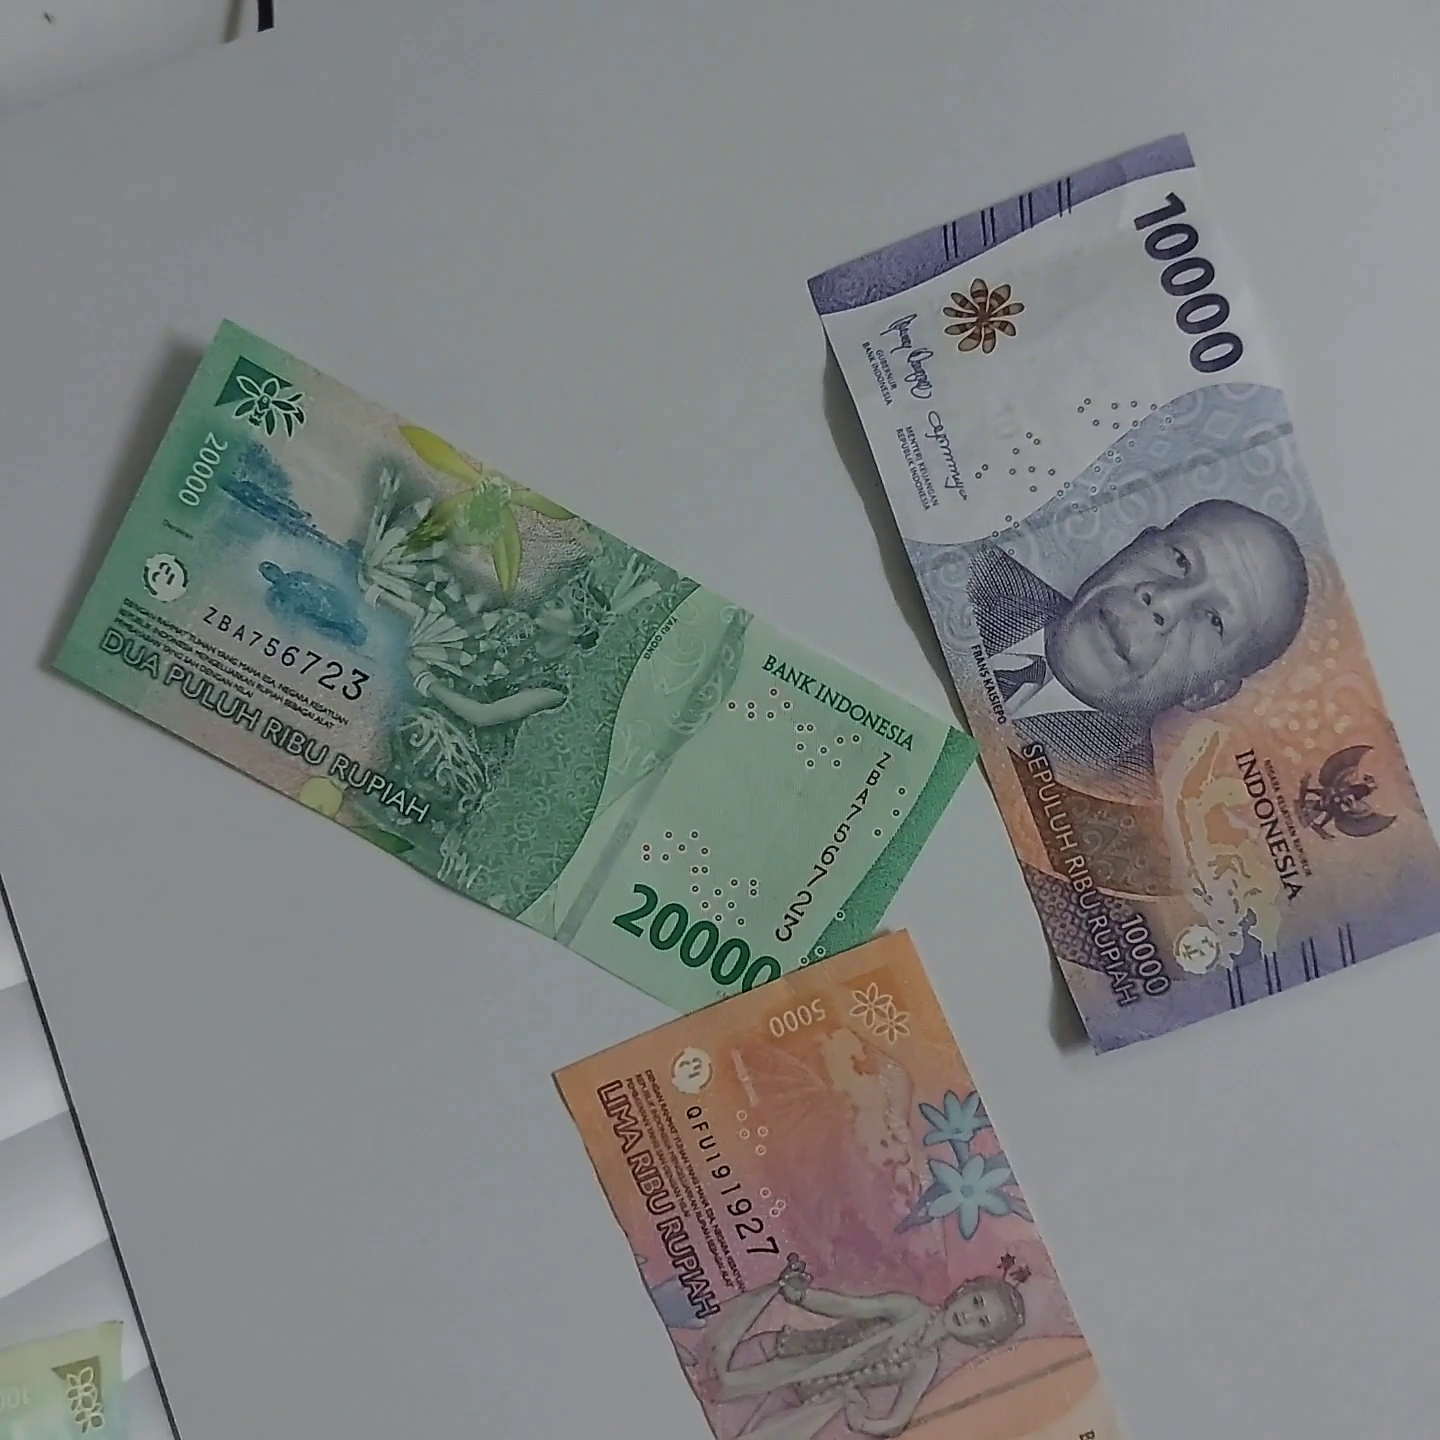10k: (752, 129, 1440, 1050), (833, 272, 1166, 1080)
20k: (241, 303, 1102, 748)
5k: (543, 922, 1142, 1440)
